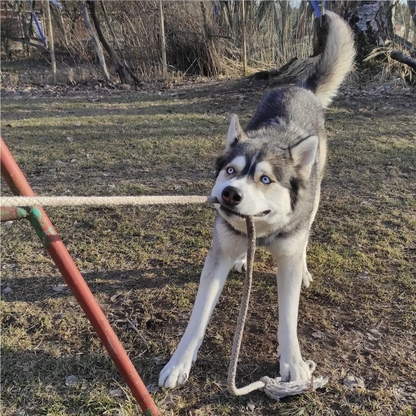husky: (155, 6, 363, 394)
